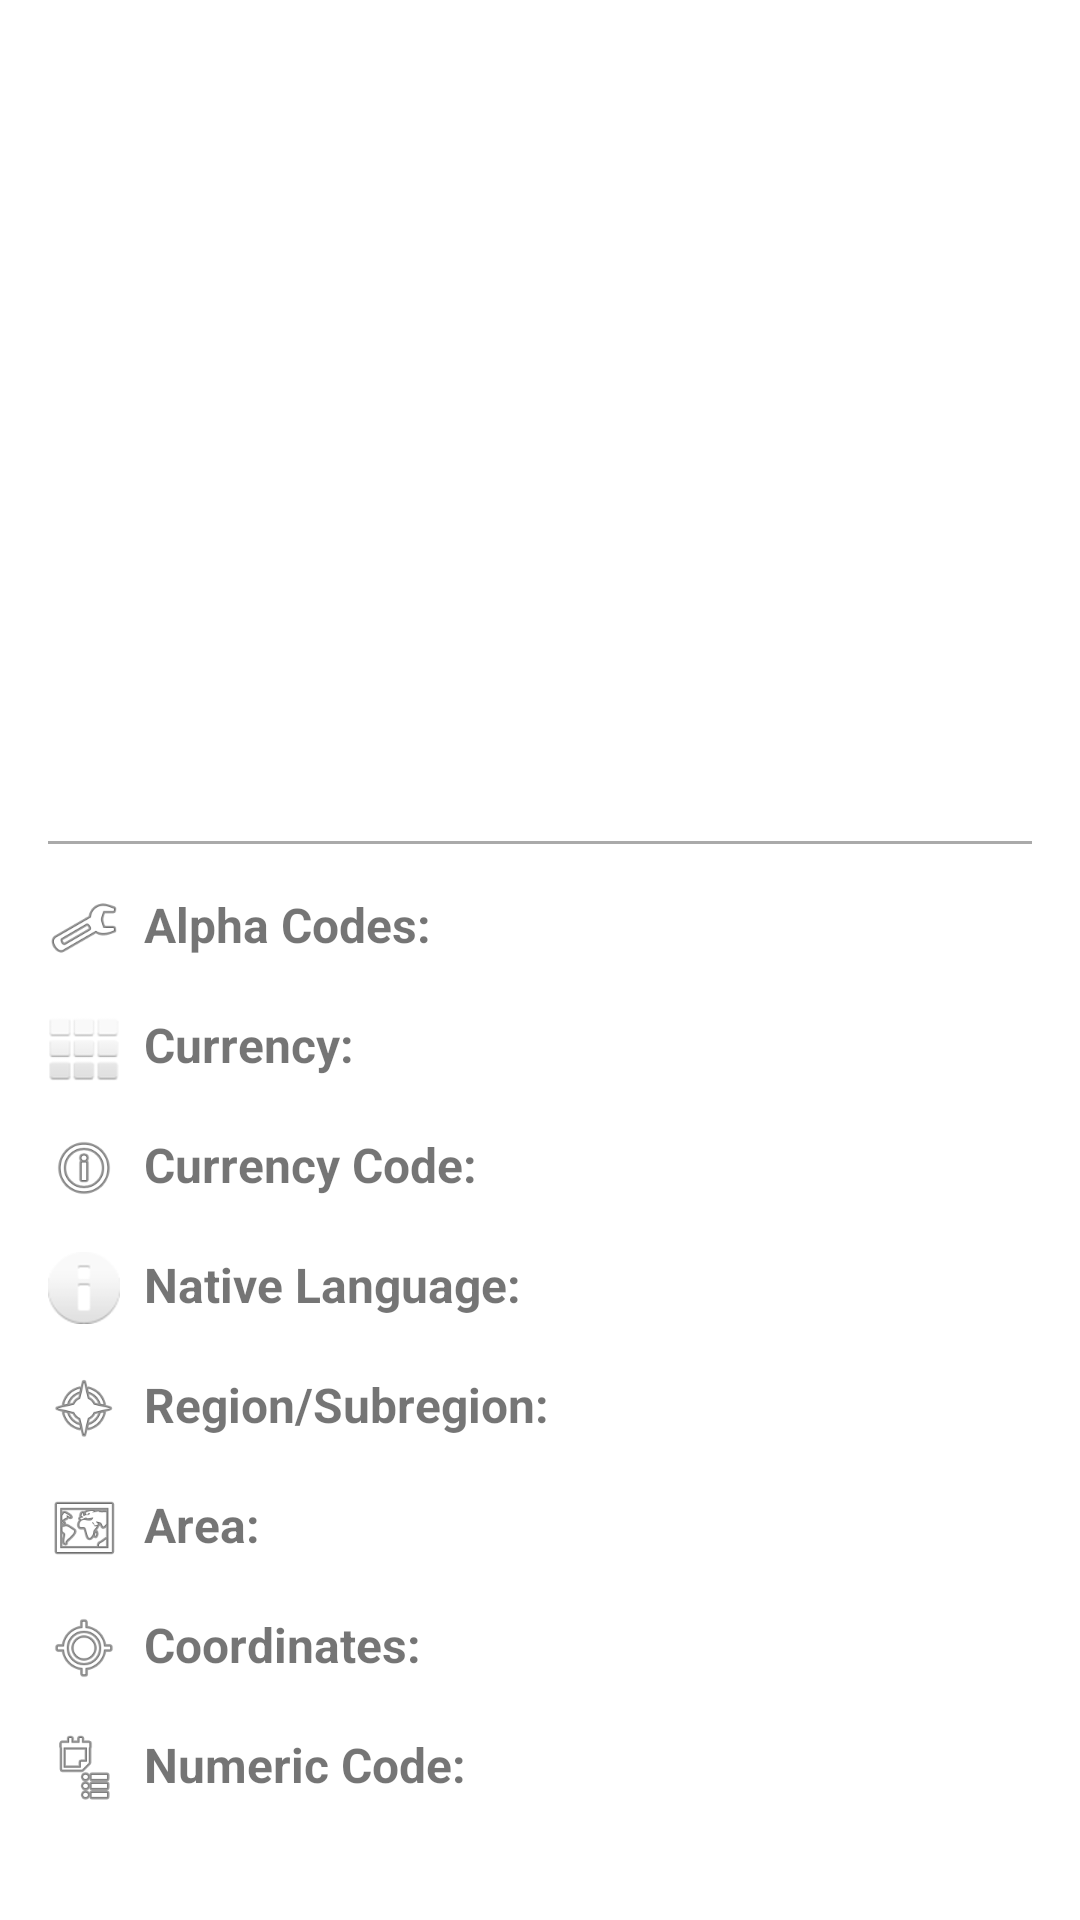

Point at icon controls on the screen. Image size 1080w x 1920h, points as (x=x, y=y).
agenda: (x=84, y=1768)
compass: (x=83, y=1408)
dialer: (x=83, y=1056)
info: (x=84, y=1294)
info details: (x=84, y=1168)
manage: (x=83, y=928)
mapmode: (x=84, y=1528)
mylocation: (x=84, y=1648)
